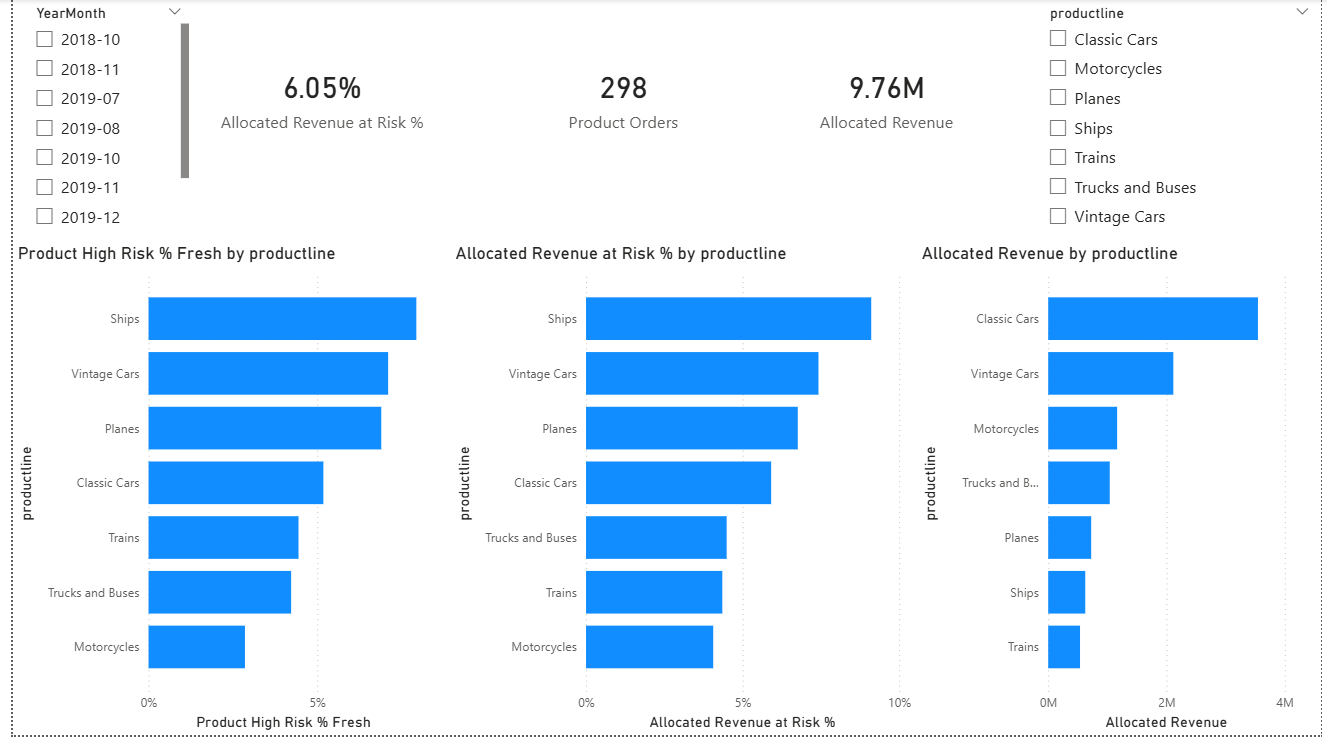

The page's visual inventory and layout, read from the dashboard file:
{"tool":"powerbi","page":{"name":"Product/Revenue at Risk","canvas":[1280,720],"ordinal":3},"visuals":[{"type":"slicer","fields":{"Values":["DimDate.YearMonth"]},"box":[1002.7,0,130.8,238.5],"z":0},{"type":"slicer","fields":{"Values":["dim_productline.productline"]},"box":[1133.6,0,146.7,238.5],"z":1000},{"type":"card","fields":{"Values":["_Measures.Product Orders"]},"box":[346.1,0,406,89.3],"z":2000},{"type":"card","fields":{"Values":["_Measures.Allocated Revenue"]},"box":[657.9,1.2,344.8,89.3],"z":3000},{"type":"card","fields":{"Values":["_Measures.Allocated Revenue at Risk %"]},"box":[0,0,376.6,89.3],"z":4000},{"type":"clusteredBarChart","fields":{"Category":["dim_productline.productline"],"Y":["_Measures.Product High Risk % Fresh"]},"box":[0,425.8,752.4,293.9],"z":5000},{"type":"clusteredBarChart","fields":{"Category":["dim_productline.productline"],"Y":["_Measures.Allocated Revenue at Risk %"]},"box":[0,89.3,657.9,306.9],"z":6000},{"type":"clusteredBarChart","fields":{"Category":["dim_productline.productline"],"Y":["_Measures.Allocated Revenue"]},"box":[752.4,425.8,506.2,293.9],"z":7000}]}

Visuals, with their boxes in screenshot pixels (x1, y1, x2, y2), scaled from the page's 1280x720 canvas onto the 1327x742 screenshot:
slicer - DimDate.YearMonth: detection(1040, 0, 1175, 246)
slicer - dim_productline.productline: detection(1175, 0, 1326, 246)
card - _Measures.Product Orders: detection(359, 0, 780, 92)
card - _Measures.Allocated Revenue: detection(682, 1, 1040, 93)
card - _Measures.Allocated Revenue at Risk %: detection(0, 0, 390, 92)
clusteredBarChart - dim_productline.productline x _Measures.Product High Risk % Fresh: detection(0, 439, 780, 741)
clusteredBarChart - dim_productline.productline x _Measures.Allocated Revenue at Risk %: detection(0, 92, 682, 408)
clusteredBarChart - dim_productline.productline x _Measures.Allocated Revenue: detection(780, 439, 1305, 741)
